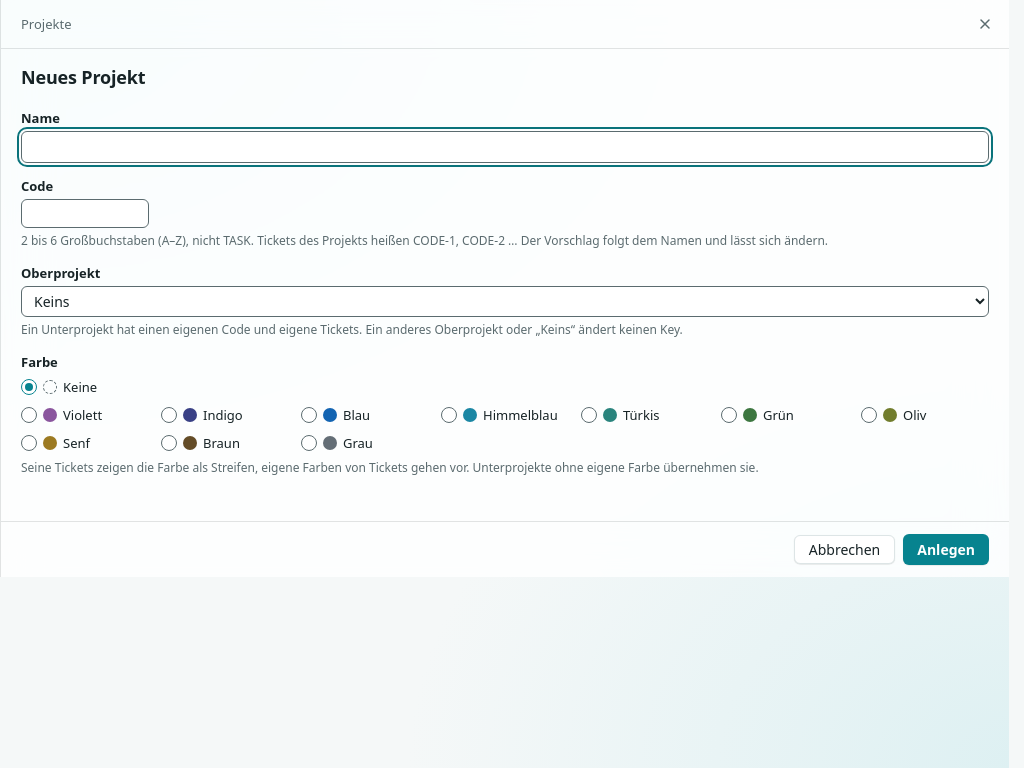
Test: project panel: creating › shows a field error of the server at the field and stays open
This screenshot has width=1024, height=768.
Type "Haus" into the field labelled "Name" at (505, 147), box [21,131,989,163]
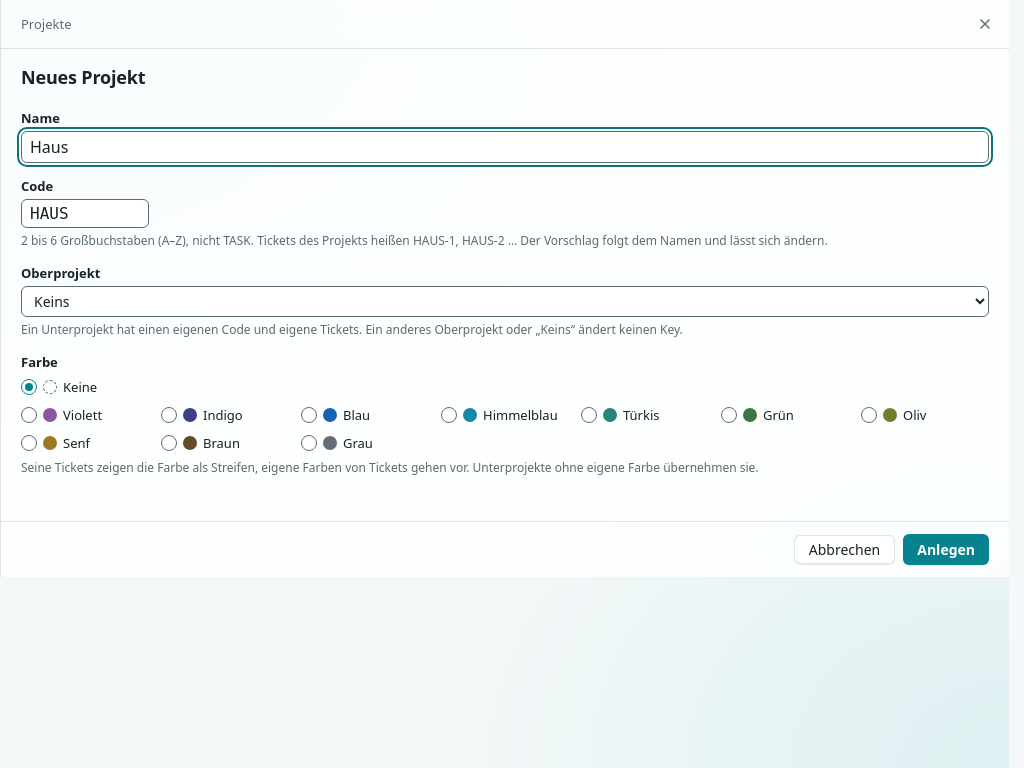
Click the button "Anlegen" at (946, 550), box [903,534,989,565]
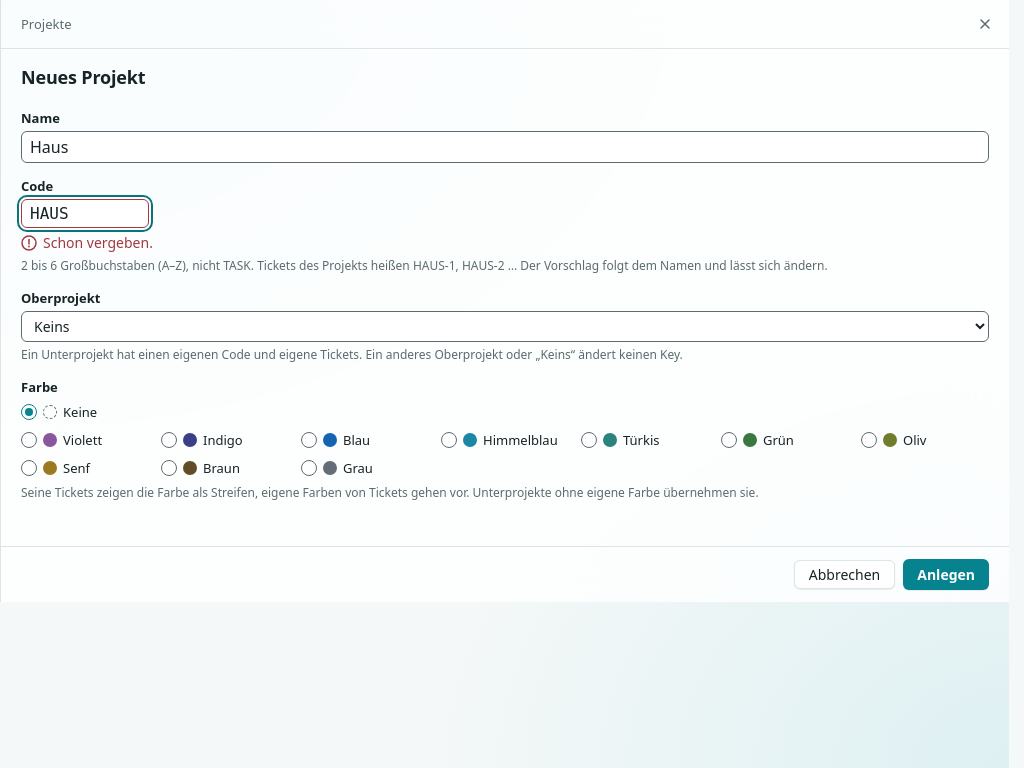
Check: the text "Schon vergeben." is shown, box [43,232,153,253]
